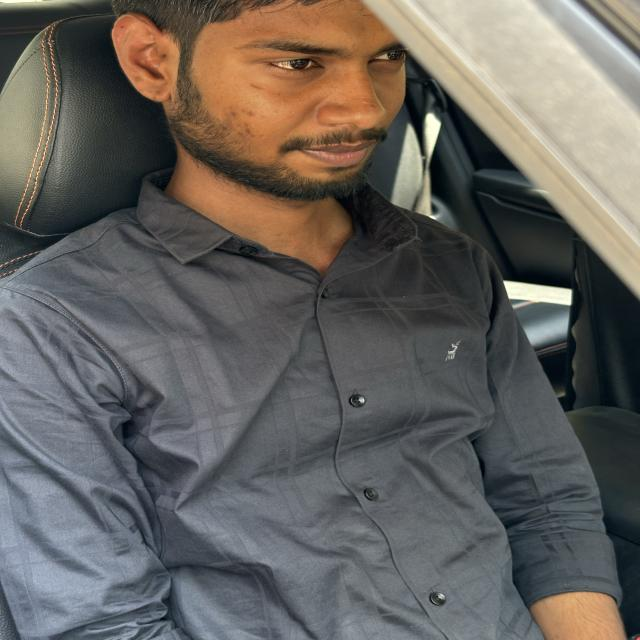no-seatbelt: (0, 233, 592, 640)
